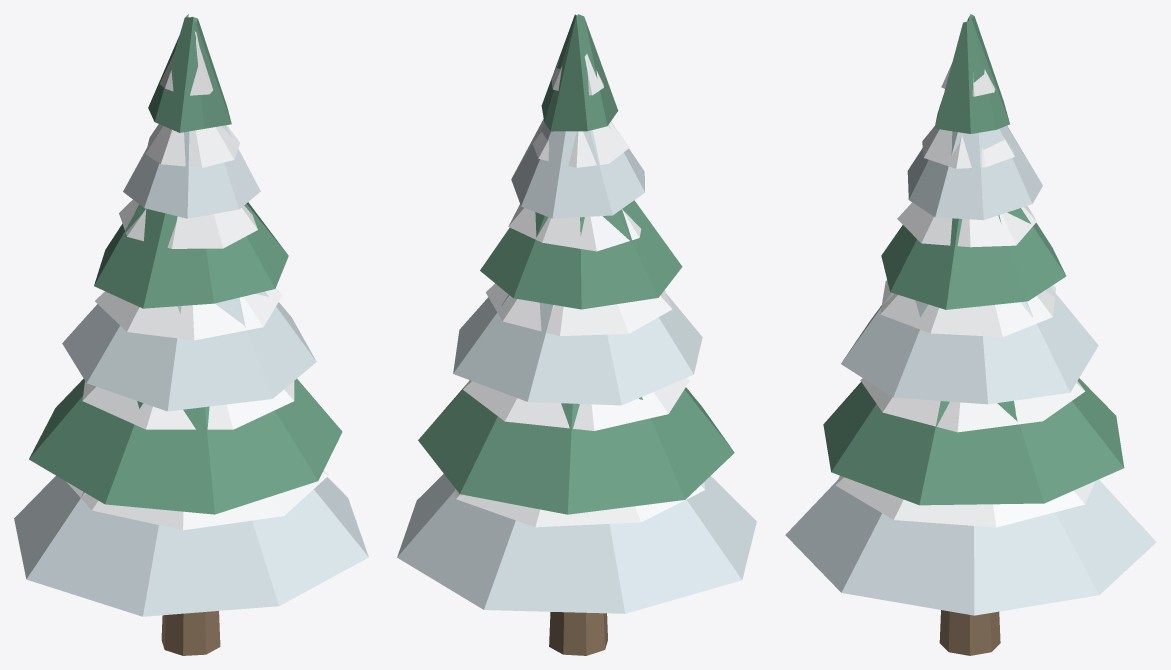
Rendered from Tree_Frostpine.fbx.
The picture shows the model from 3 angles, left to right: view 1: azimuth 30°, elevation 25°; view 2: azimuth 150°, elevation 25°; view 3: azimuth 270°, elevation 25°; orthographic projection.
Parts seen in each view (by area): view 1: Tree_Frostpine_Mesh; view 2: Tree_Frostpine_Mesh; view 3: Tree_Frostpine_Mesh.
Part boxes in pixels (bbox=[...]): Tree_Frostpine_Mesh: bbox=[14, 14, 368, 655]; Tree_Frostpine_Mesh: bbox=[397, 14, 756, 655]; Tree_Frostpine_Mesh: bbox=[785, 14, 1156, 655].
Bounding box in the file's own units: 5.14 × 9.55 × 5.13.
